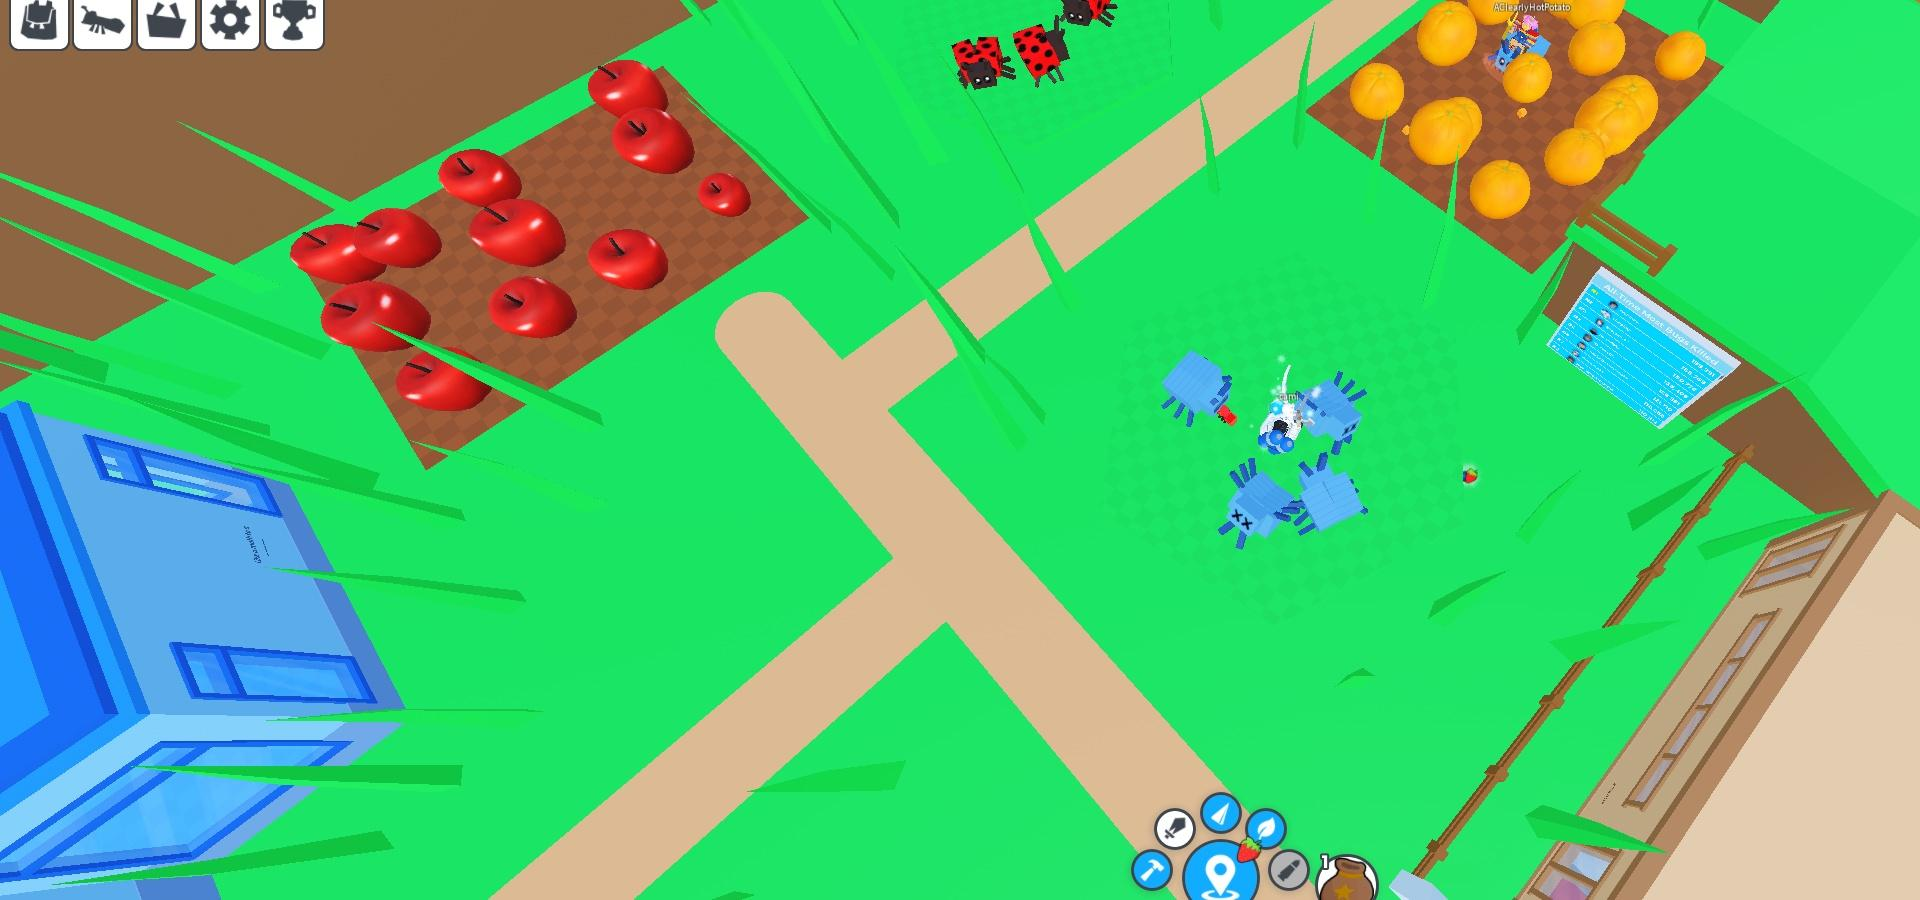Enemy: (1153, 338, 1234, 424), (1218, 468, 1299, 547), (1286, 373, 1369, 443), (1292, 462, 1373, 533), (1010, 18, 1078, 84), (945, 32, 1011, 92), (1058, 0, 1122, 20)
